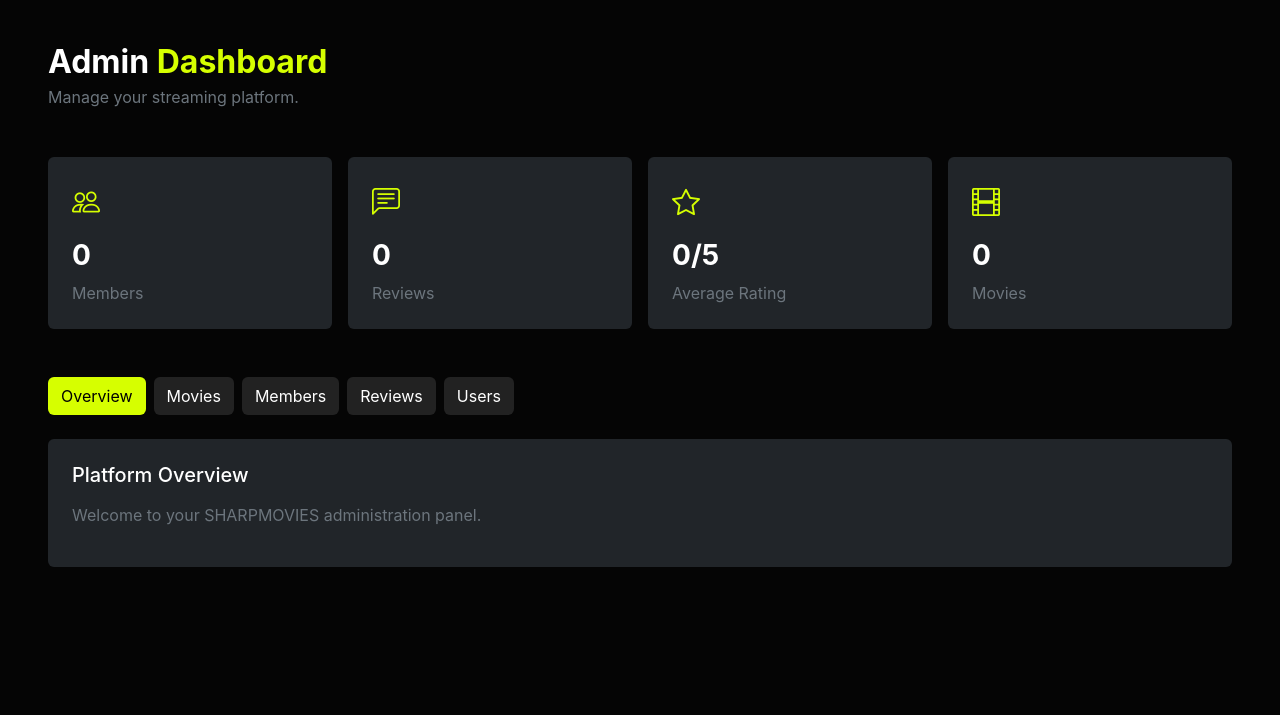
Test: lets an admin add a cast profile with the Cloudinary portrait uploader
Click the button "members".
click(291, 396)  # box [242, 377, 339, 415]
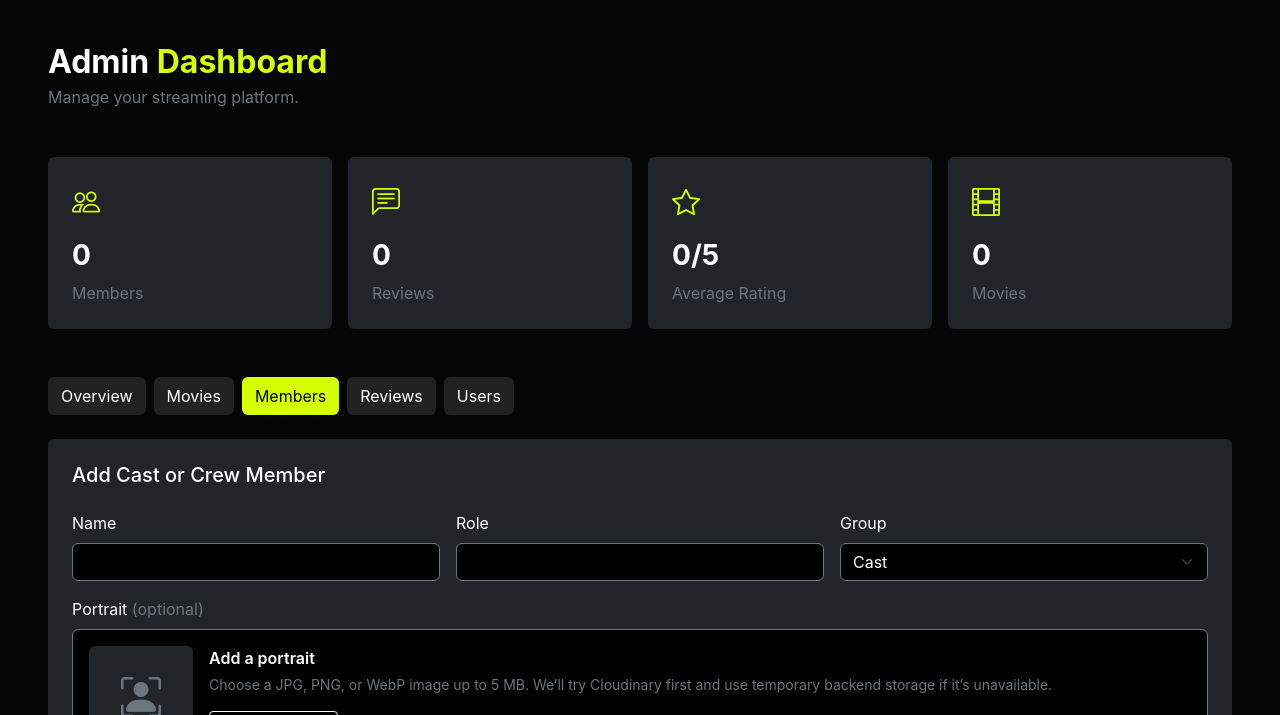
Now the text "try Cloudinary first and use temporary backend storage" is shown, box [209, 676, 1052, 693]
Type "New Actor" into the field labelled "Name".
click(256, 562); type("New Actor")  # box [72, 543, 440, 581]
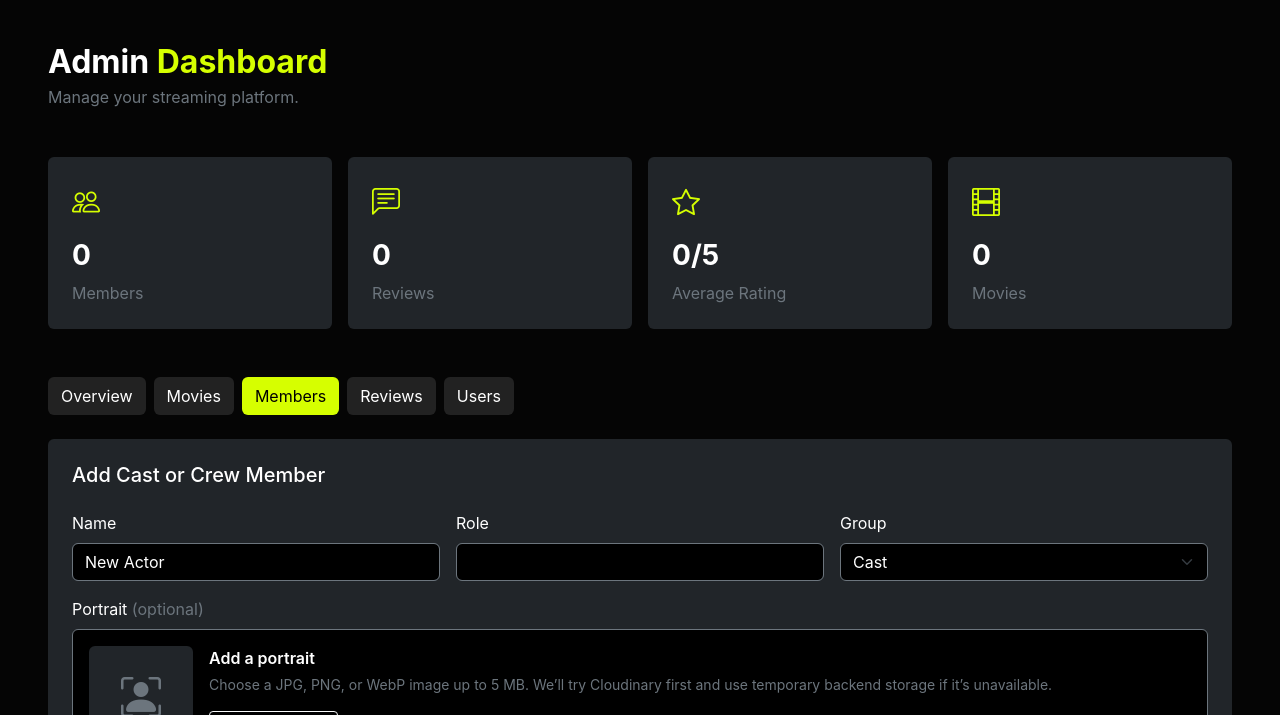
Type "Lead actor" into the field labelled "Role".
click(640, 562); type("Lead actor")  # box [456, 543, 824, 581]
(page scrolled)
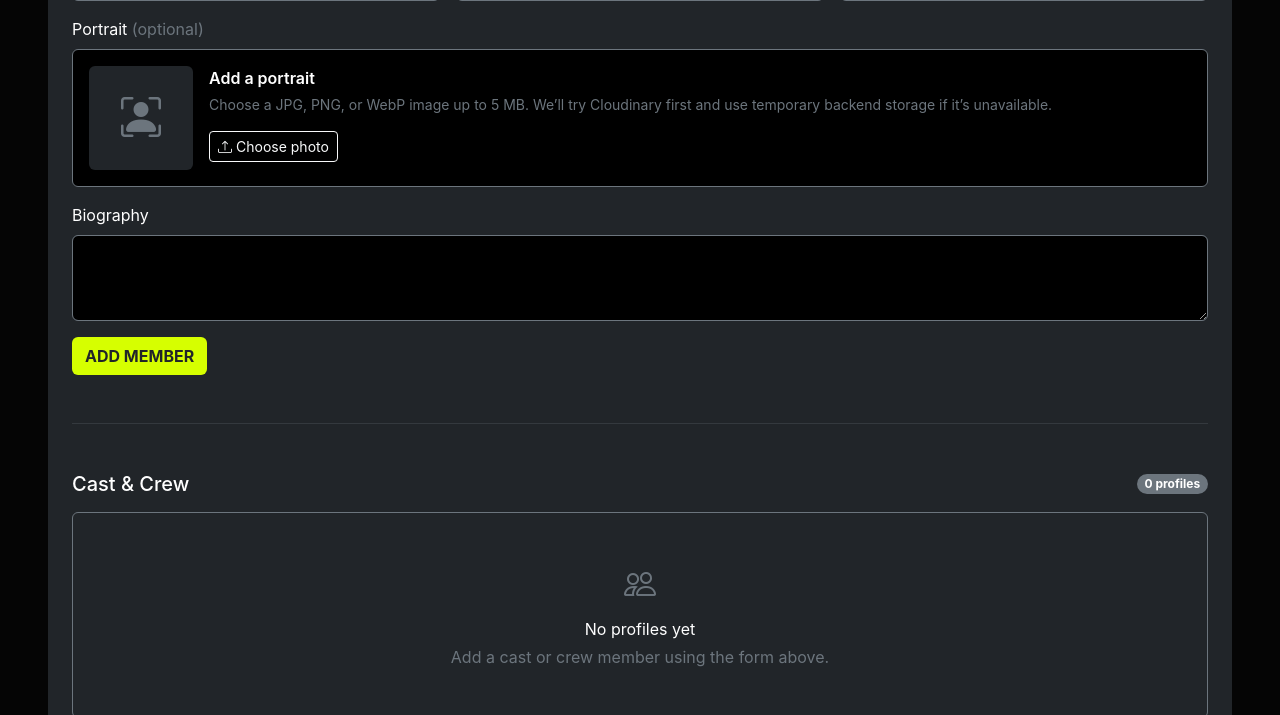
Click the button "ADD MEMBER".
click(140, 356)  # box [72, 337, 207, 375]
(page scrolled)
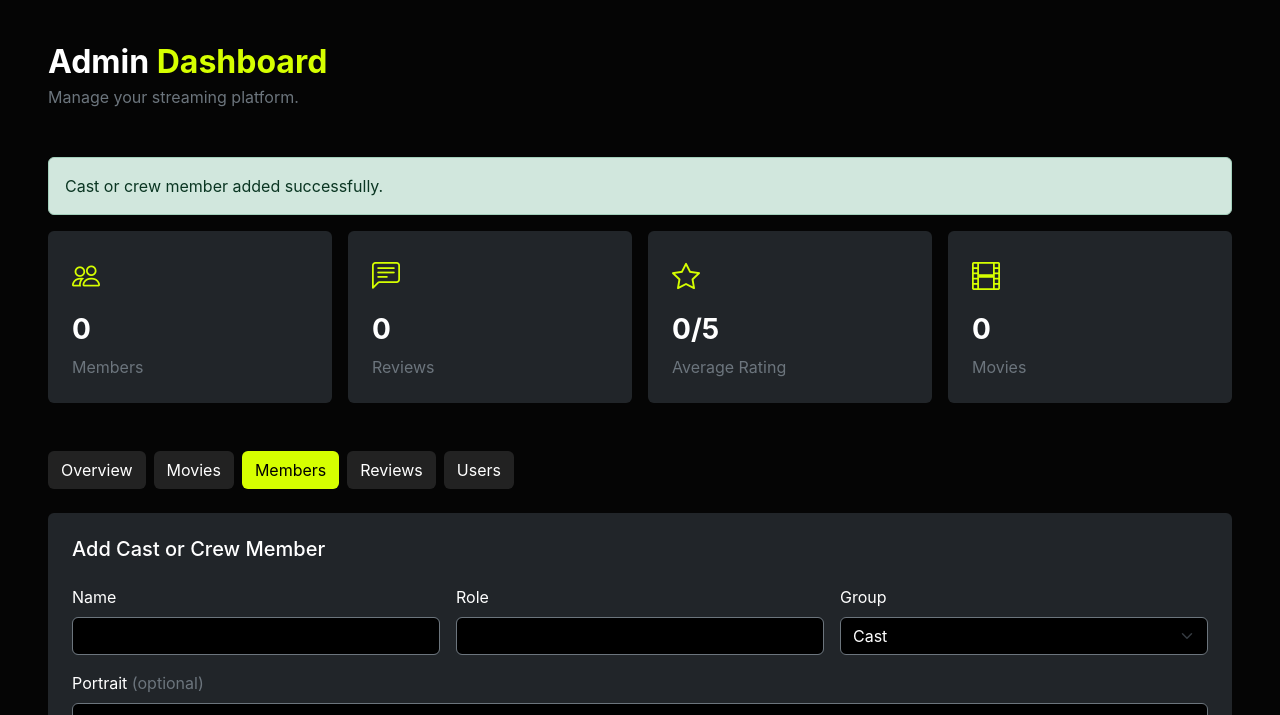
Now the text "Cast or crew member added successfully." is shown, box [48, 157, 1232, 215]
